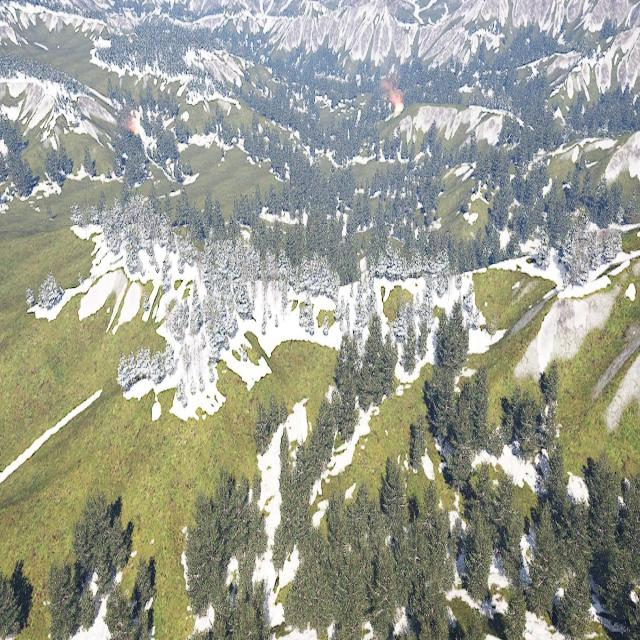fire: (392, 100, 403, 116), (131, 122, 141, 138)
smoke: (378, 53, 400, 99)
